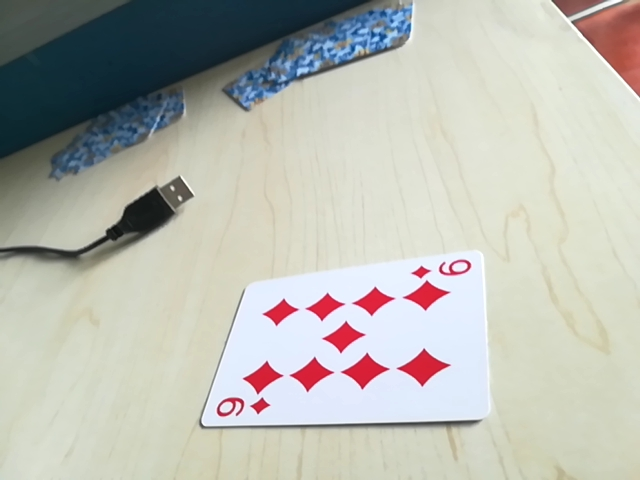fk 9: (208, 393, 274, 425), (411, 256, 477, 285)
